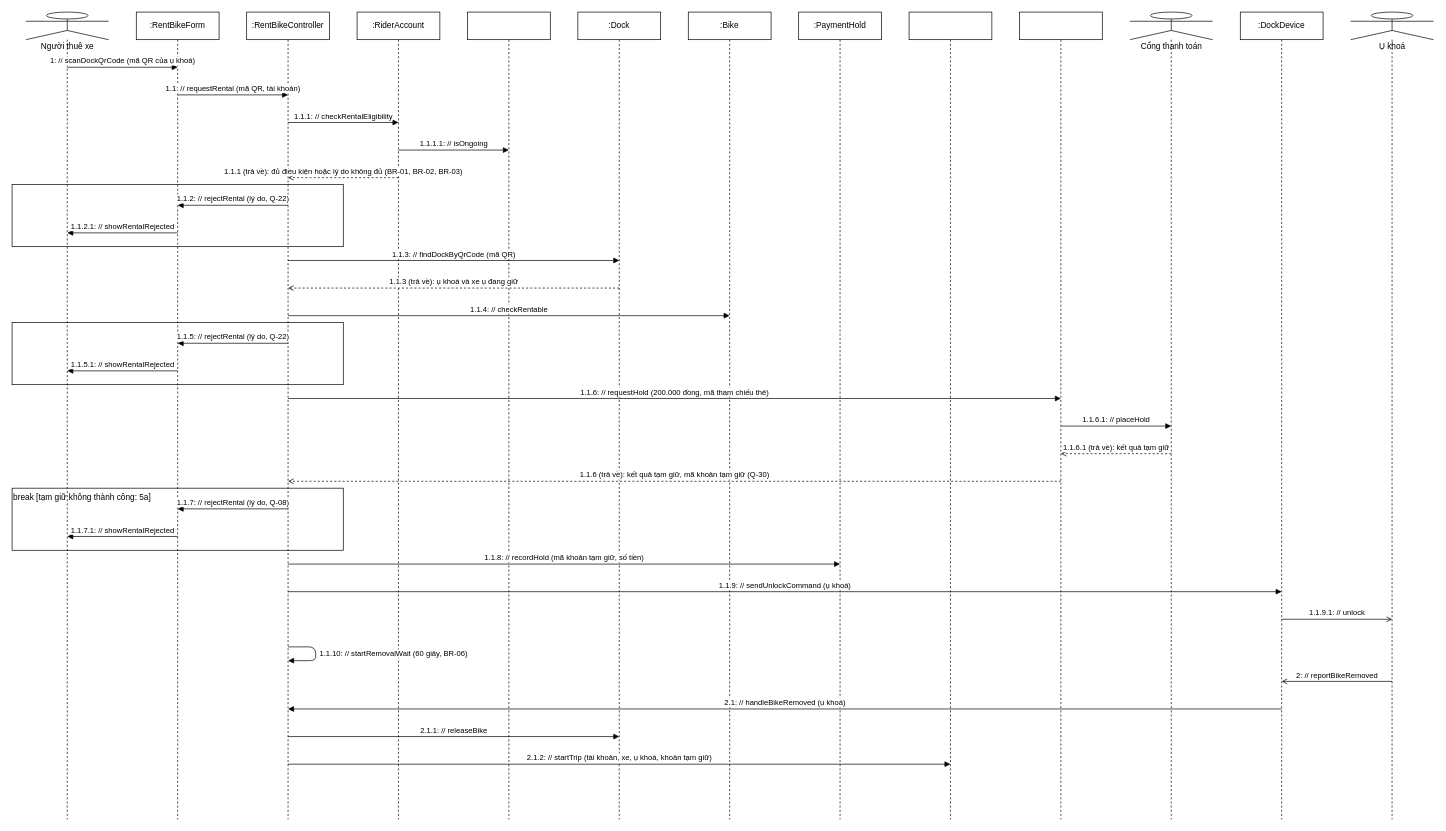
The diagram is 1446 pixels wide and 831 high, and some of its shapes have lost their labels. Each missing label, with the box of its shape:
:PaymentGateway: (1019, 11, 1102, 819)
break [không đủ điều kiện: 2a, 2b, 2c]: (11, 184, 343, 247)
break [xe Chờ kiểm tra: 3a]: (11, 322, 343, 385)
ongoing:Trip: (467, 11, 550, 819)
trip:Trip: (908, 11, 992, 819)
